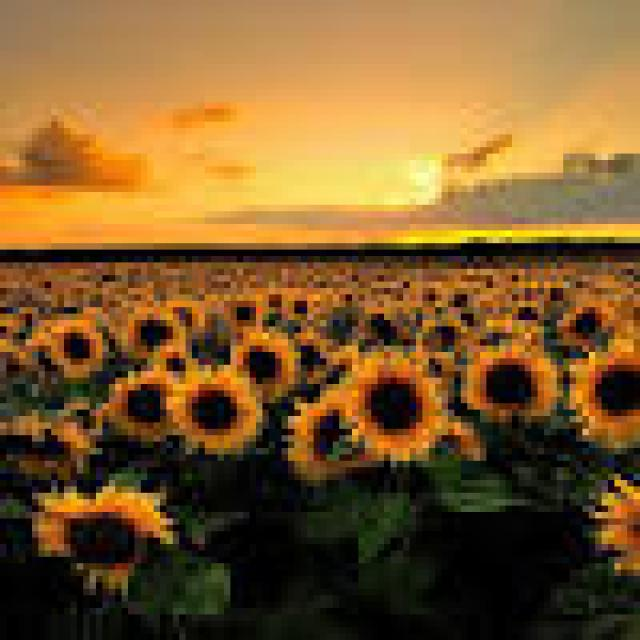sunflower: (26, 480, 172, 582), (339, 349, 448, 464), (157, 362, 272, 451), (563, 333, 640, 448), (458, 346, 560, 422), (41, 310, 106, 374), (115, 307, 186, 365)
